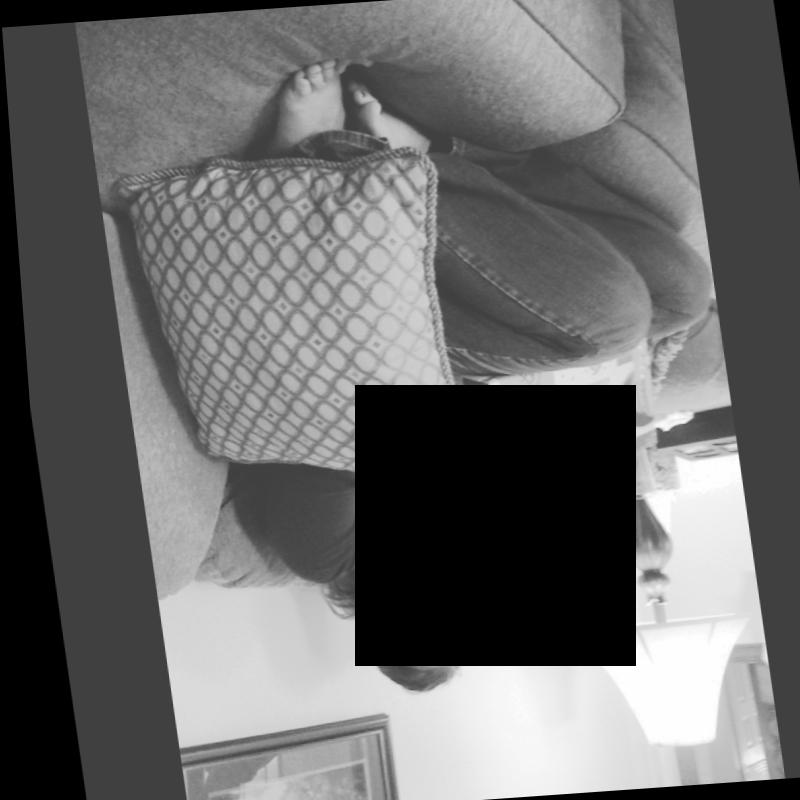pillow: (111, 166, 481, 523)
